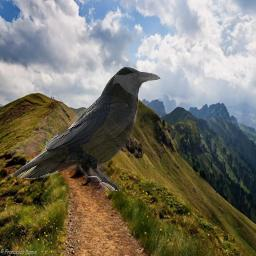Crow: (11, 66, 161, 191)
